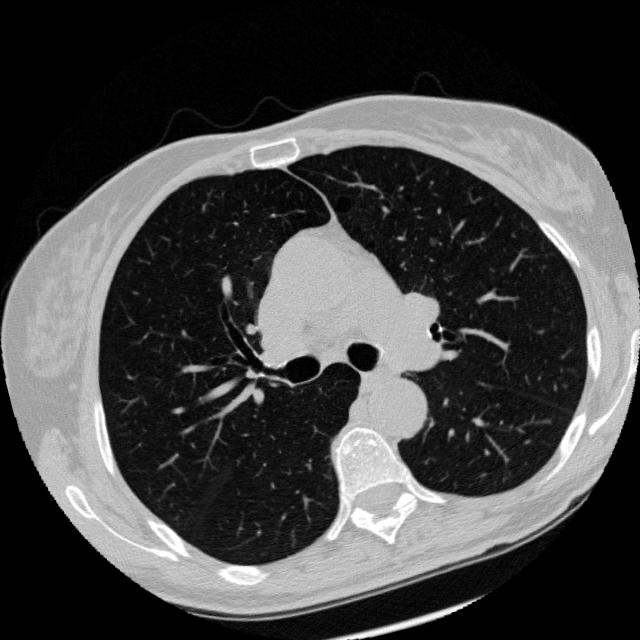nodule: (418, 227, 445, 254)
